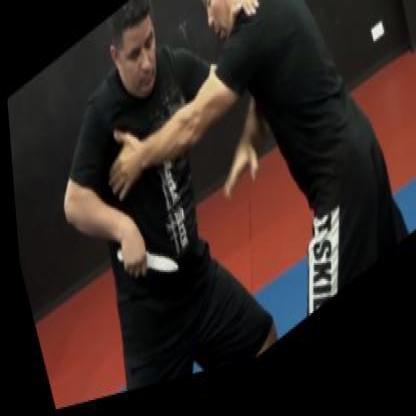knife: (108, 213, 176, 318)
